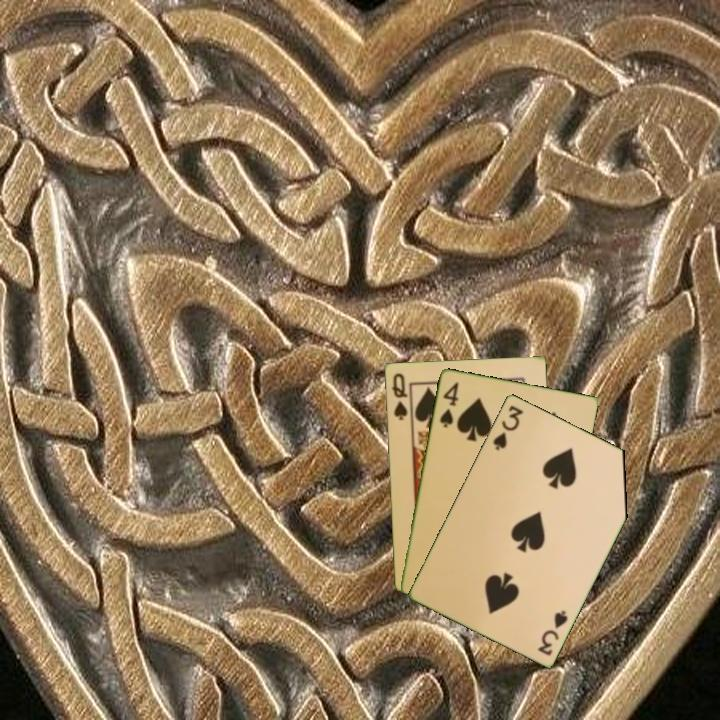3s: (489, 401, 526, 453), (534, 606, 570, 658)
4s: (436, 378, 461, 430)
Qs: (388, 369, 410, 423)
